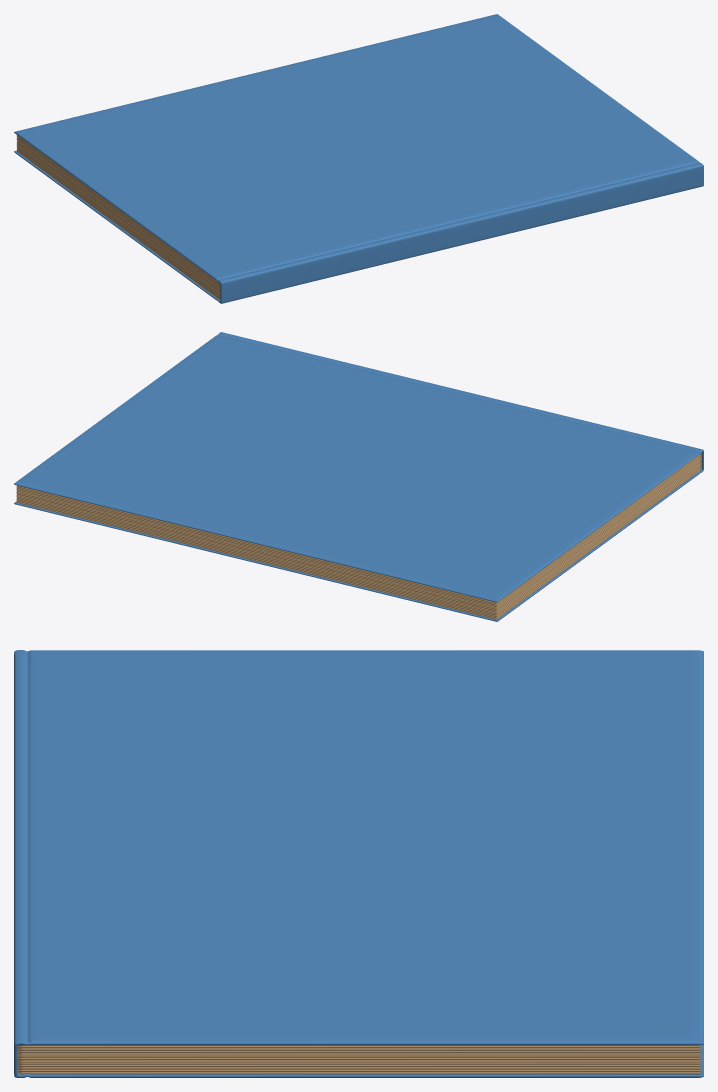
Rendered from misc_notebook_a02.glb.
3 views of the same model, one above another, from view 1: azimuth 30°, elevation 25°; view 2: azimuth 150°, elevation 25°; view 3: azimuth 270°, elevation 25° (orthographic). The views are drawn at different scales.
Bounding box in the file's own units: 0.2289 × 0.01 × 0.17.
